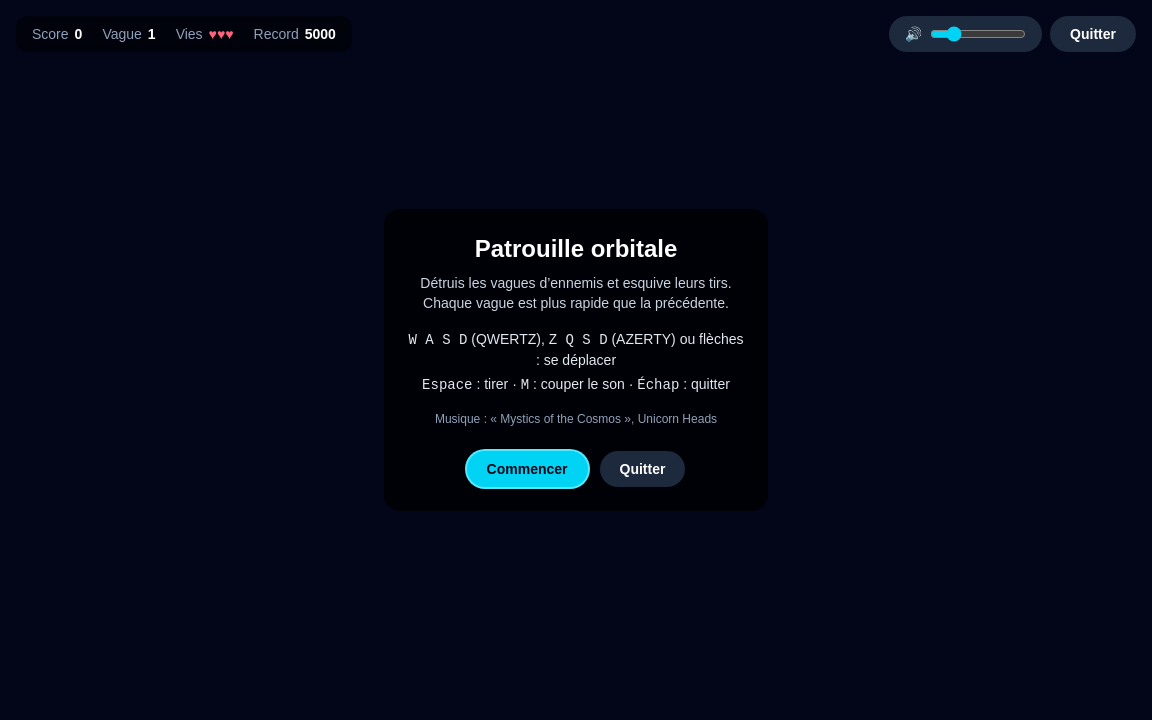
Test: GameOverlay › ne remplace pas un meilleur record
What coordinates should you click on to do the following:
click the button "Commencer"
I would click on:
 (527, 469)
Its box is x1=467 y1=451 x2=588 y2=487.
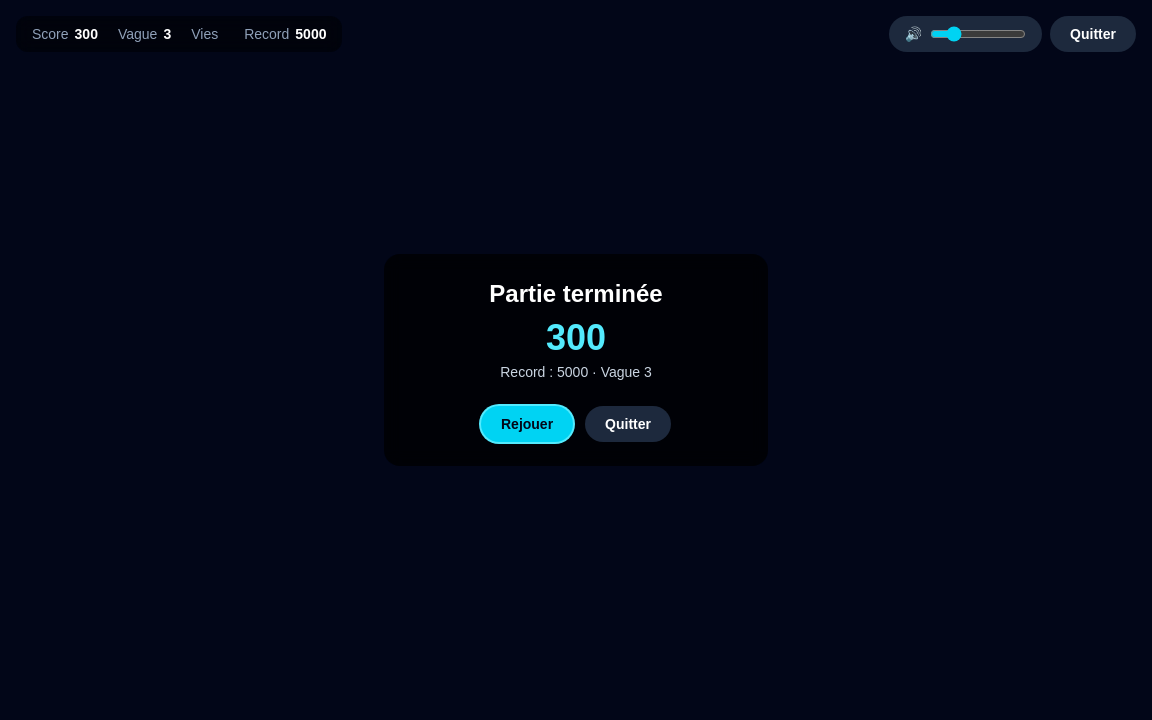
Expected: the text "Record : 5000 · Vague 3" is shown, x1=500 y1=364 x2=652 y2=380
